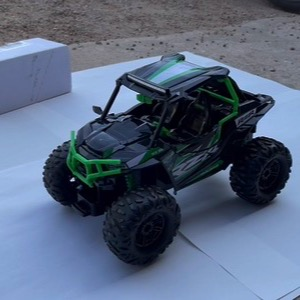polaris: (42, 51, 294, 267)
